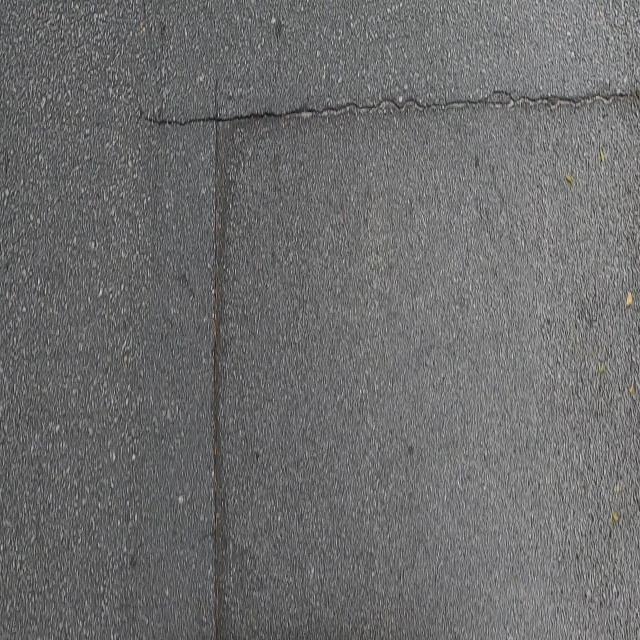Retak-Melintang: (127, 79, 638, 137)
Retak-Memanjang: (207, 133, 229, 640)
